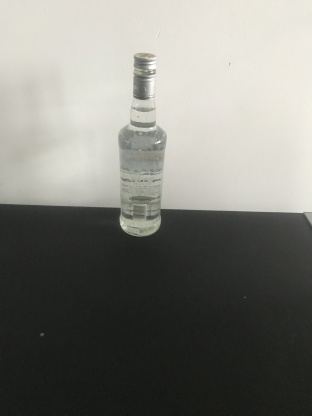nakretka: (131, 51, 158, 100)
